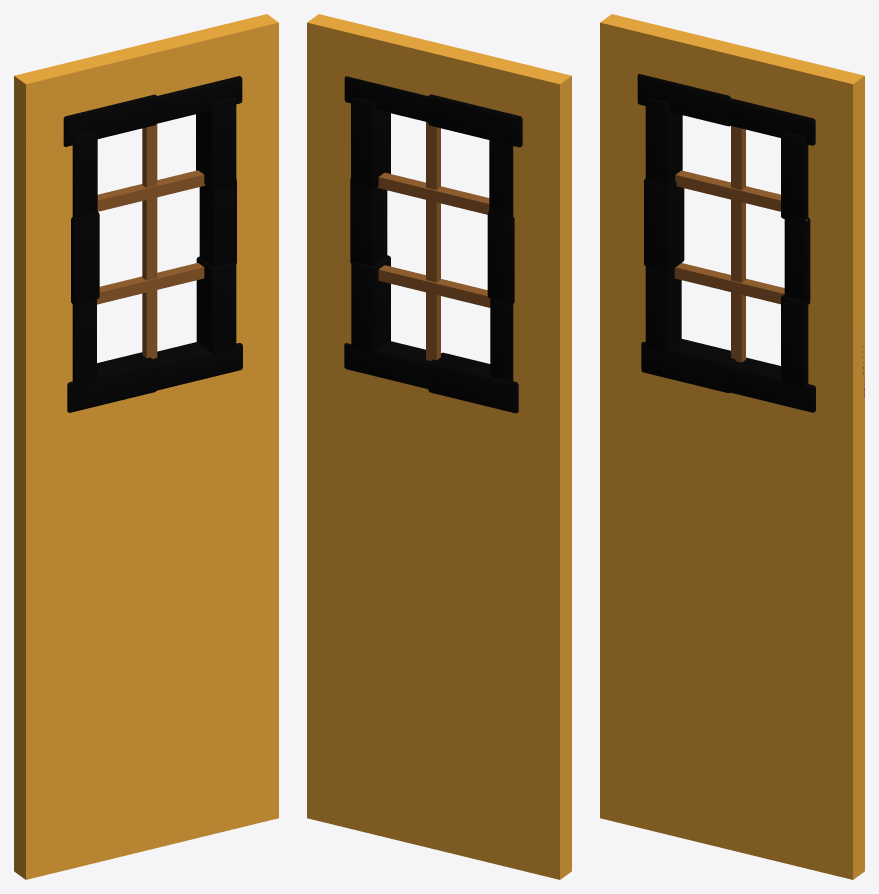
The model's file is Wall H 5.fbx.
The picture shows the model from 3 angles, left to right: view 1: azimuth 30°, elevation 25°; view 2: azimuth 150°, elevation 25°; view 3: azimuth 330°, elevation 25°; orthographic projection.
Parts seen in each view (by area): view 1: Wall H 5; view 2: Wall H 5; view 3: Wall H 5.
Part boxes in pixels (<box>): Wall H 5: <box>14,14,278,879</box>; Wall H 5: <box>307,14,571,879</box>; Wall H 5: <box>600,14,864,879</box>.
Bounding box in the file's own units: 249 × 747 × 28.48.
Materials: 1 (1 with a texture image).
